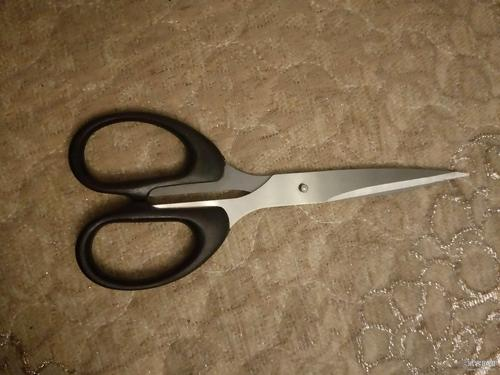scissor: (60, 108, 472, 293)
